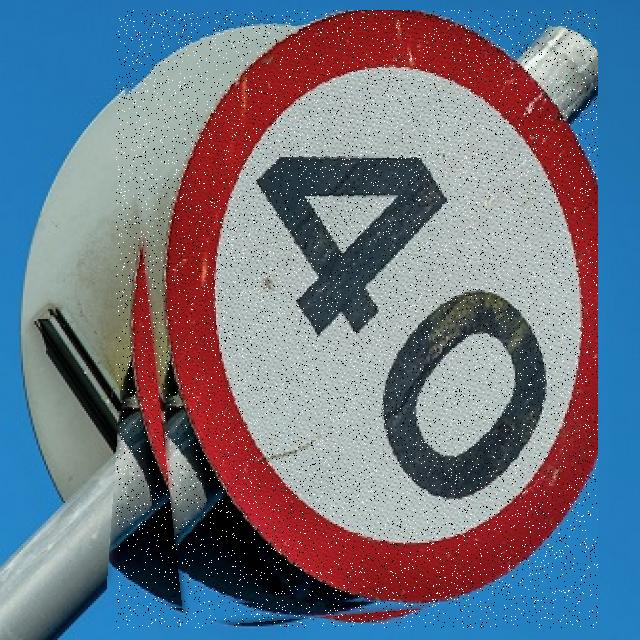speed limit 40: (116, 10, 598, 628)
